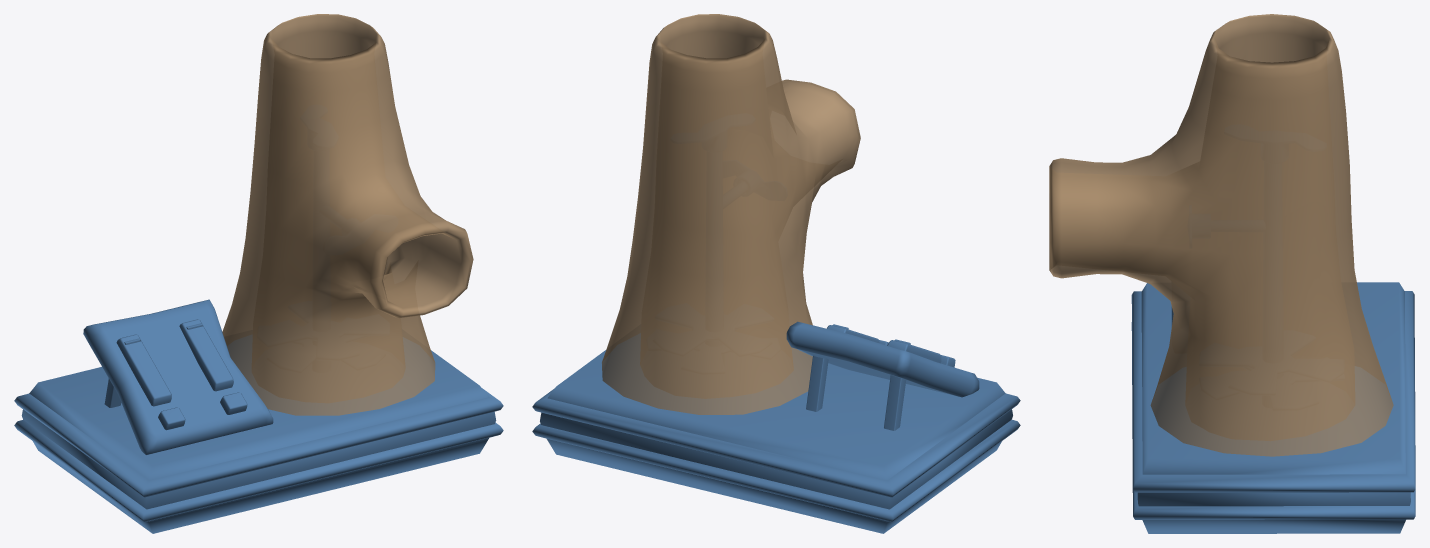
The model's file is Appliances_Slicer.fbx.
The picture shows the model from 3 angles, left to right: view 1: azimuth 30°, elevation 25°; view 2: azimuth 150°, elevation 25°; view 3: azimuth 270°, elevation 25°; orthographic projection. The views are drawn at different scales.
Parts seen in each view (by area): view 1: Glass, Base; view 2: Glass, Base; view 3: Glass, Base.
Boxes of the visible parts, x1,y1,x2,y2 form: Glass: [222, 14, 473, 415]; Base: [14, 299, 503, 533]; Glass: [602, 14, 860, 414]; Base: [532, 321, 1020, 533]; Glass: [1049, 14, 1393, 456]; Base: [1131, 282, 1415, 533].
Size of the model in its own units: 130 by 138 by 103.
